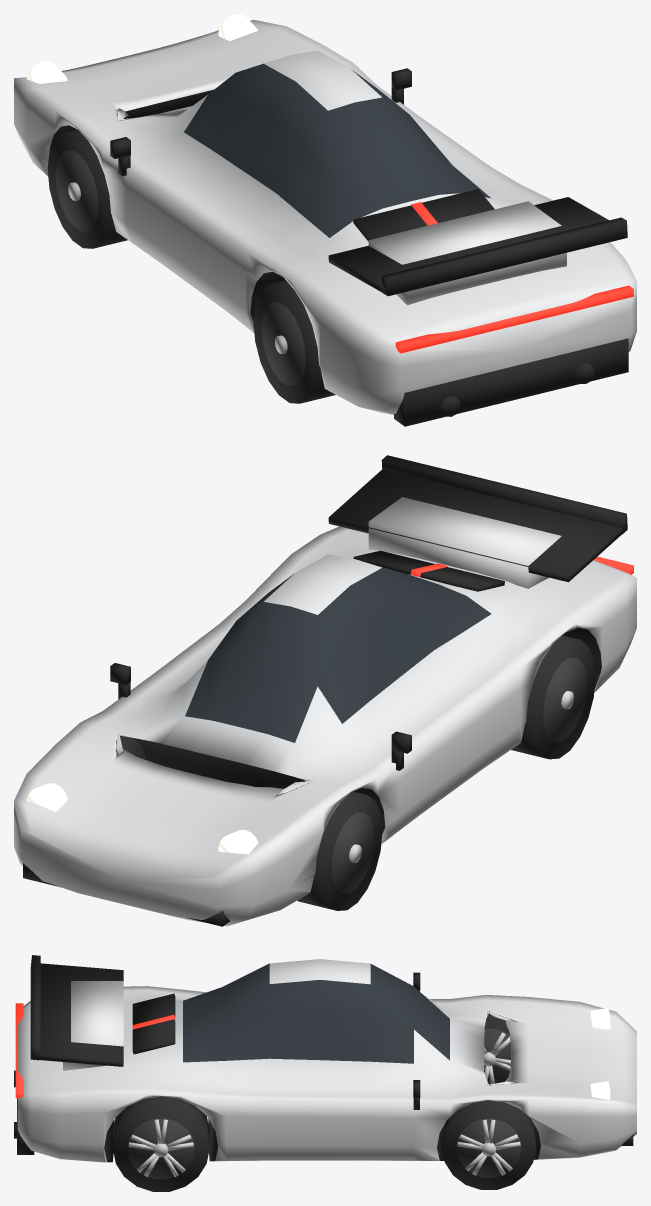
File: porsche_911_turbo.glb
3 renders of one model, top to bottom at view 1: azimuth 30°, elevation 25°; view 2: azimuth 150°, elevation 25°; view 3: azimuth 270°, elevation 25°, orthographic. The views are drawn at different scales.
Parts seen in each view (by area): view 1: Body, Wheel_RL, Wheel_FL; view 2: Body, Wheel_RL, Wheel_FL; view 3: Body, Wheel_RR, Wheel_FR, Wheel_FL.
Boxes of the visible parts, x1,y1,x2,y2 form: Body: (14, 14, 636, 426); Wheel_RL: (253, 280, 335, 403); Wheel_FL: (47, 129, 127, 248); Body: (14, 455, 636, 926); Wheel_RL: (511, 635, 595, 759); Wheel_FL: (297, 791, 382, 910); Body: (14, 955, 636, 1162); Wheel_RR: (113, 1096, 209, 1191); Wheel_FR: (442, 1100, 535, 1189); Wheel_FL: (484, 1013, 510, 1084).
Size of the model in its own units: 1.86 by 1.3 by 4.31.
